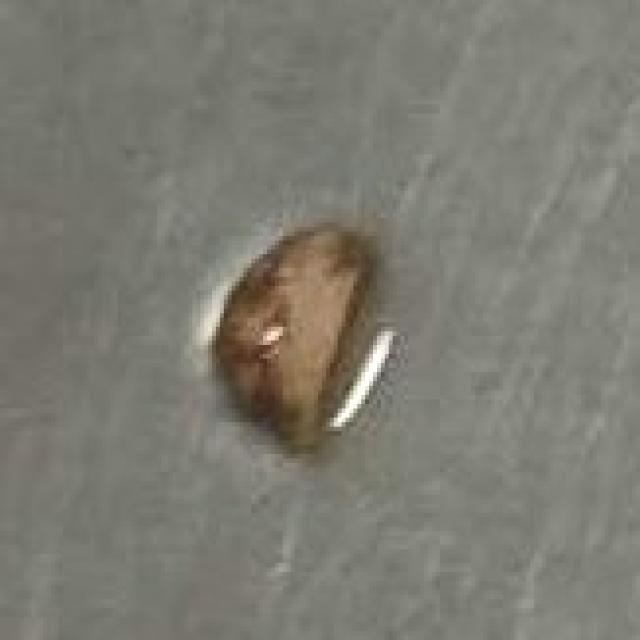Infectious: (211, 221, 401, 457)
Sharps: (322, 325, 408, 435)
